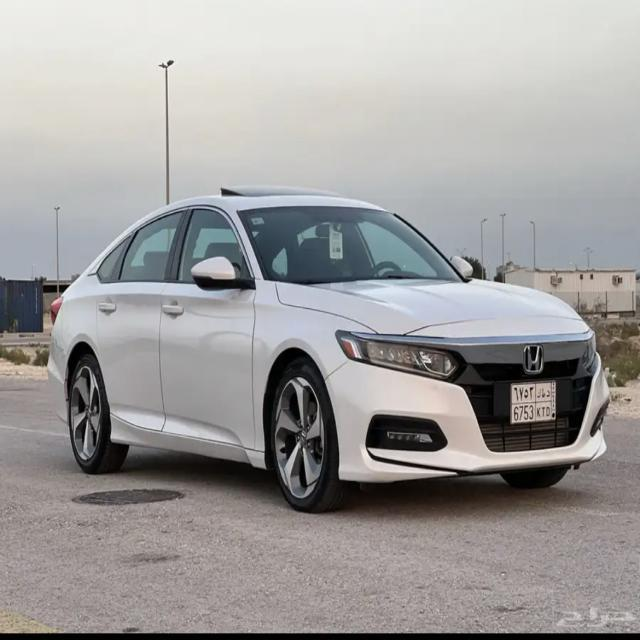license_plate: (508, 382, 558, 426)
